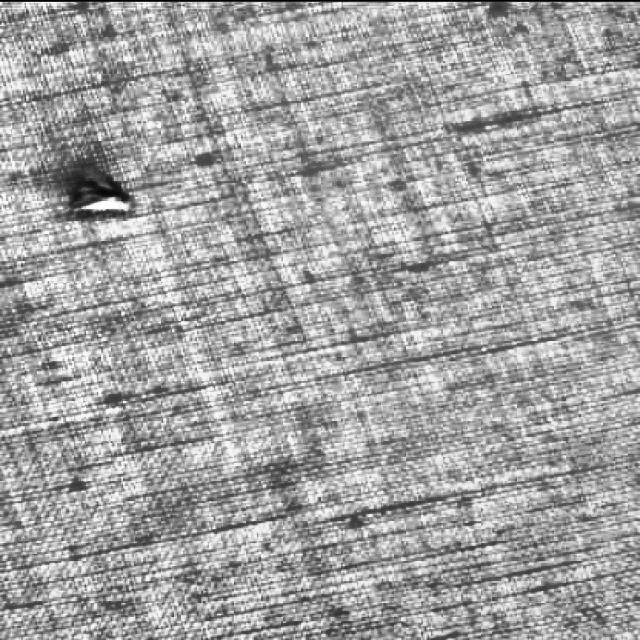objects: (52, 157, 156, 227)
